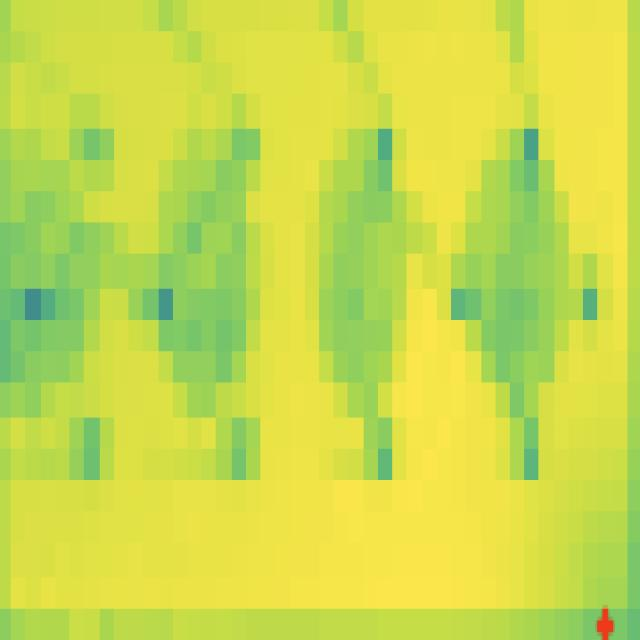Concrete: (12, 113, 115, 411)
Glass: (471, 126, 574, 448)
Metal: (148, 93, 269, 429)
Wood: (305, 106, 419, 427)
